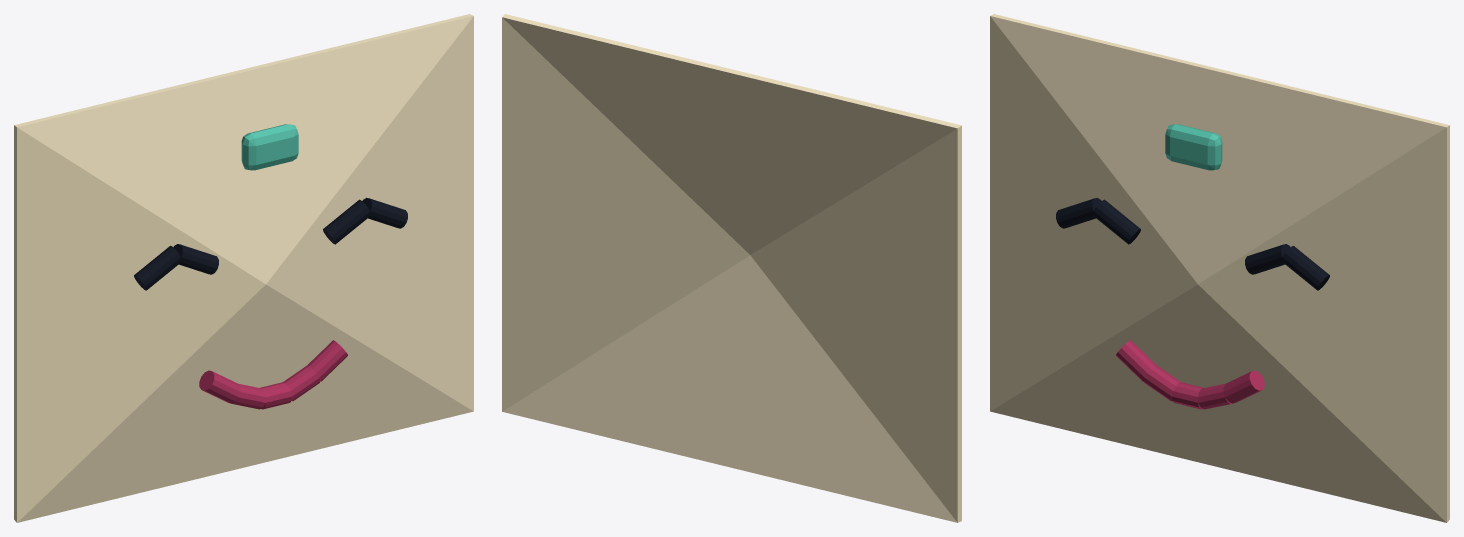
Rendered from Face_emote_salute.fbx.
The picture shows the model from 3 angles, left to right: view 1: azimuth 30°, elevation 25°; view 2: azimuth 150°, elevation 25°; view 3: azimuth 330°, elevation 25°; orthographic projection.
Parts seen in each view (by area): view 1: Face_emote_salute.Mesh; view 2: Face_emote_salute.Mesh; view 3: Face_emote_salute.Mesh.
Boxes of the visible parts, x1,y1,x2,y2 form: Face_emote_salute.Mesh: [14, 14, 473, 522]; Face_emote_salute.Mesh: [502, 14, 961, 522]; Face_emote_salute.Mesh: [990, 14, 1449, 522].
Bounding box in the file's own units: 58 × 48 × 8.19.
